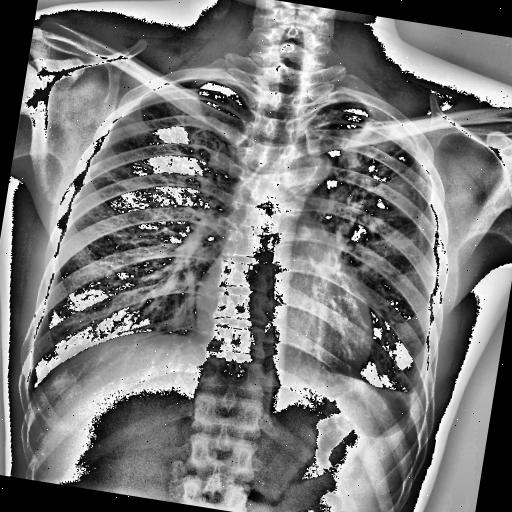10- Pleural effusion: (392, 377, 428, 413), (405, 378, 431, 410), (399, 382, 423, 414)
11- Pleural thickening: (392, 377, 428, 413), (405, 378, 431, 410), (399, 382, 423, 414)
13- Pulmonary fibrosis: (320, 111, 404, 232), (90, 166, 124, 184), (116, 116, 144, 135)
6- Infiltration: (302, 116, 446, 280), (310, 113, 440, 275), (352, 228, 416, 312), (104, 115, 164, 193)
7- Lung Opacity: (310, 113, 440, 275)
